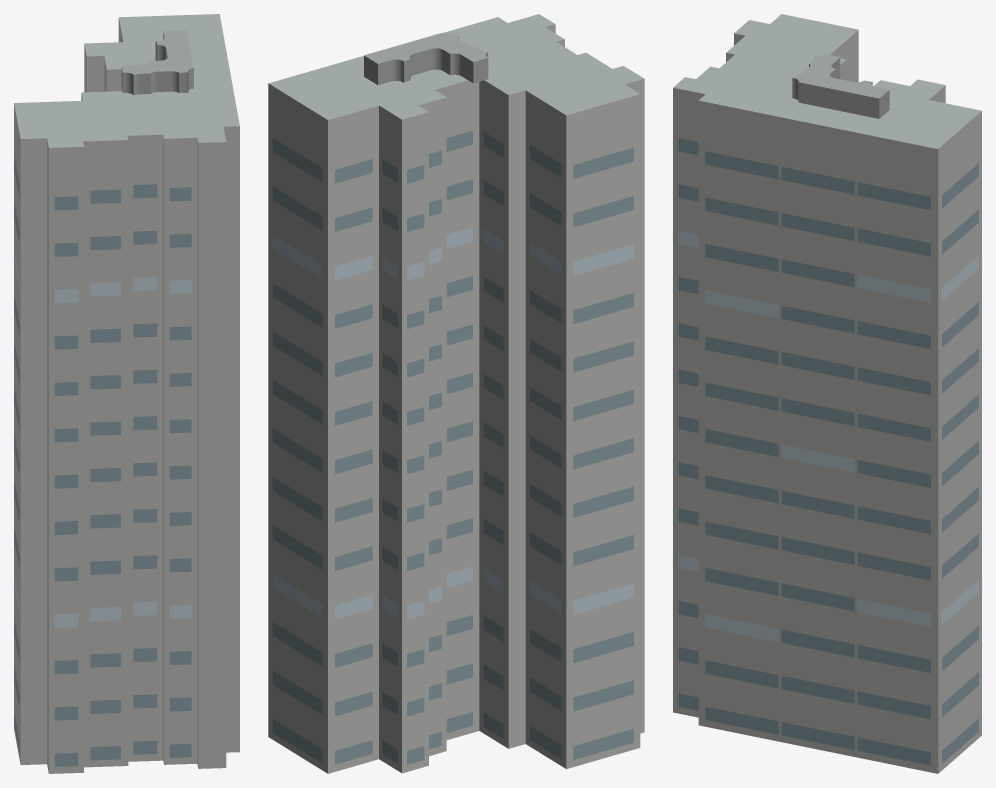
Rendered from fallback-banpo-xi-133.glb.
The picture shows the model from 3 angles, left to right: view 1: azimuth 30°, elevation 25°; view 2: azimuth 150°, elevation 25°; view 3: azimuth 270°, elevation 25°; orthographic projection. The views are drawn at different scales.
Parts seen in each view (by area): view 1: fallback-banpo-xi-133; view 2: fallback-banpo-xi-133; view 3: fallback-banpo-xi-133.
Boxes of the visible parts, x1,y1,x2,y2 form: fallback-banpo-xi-133: [14, 14, 239, 773]; fallback-banpo-xi-133: [268, 14, 644, 773]; fallback-banpo-xi-133: [673, 14, 981, 773].
Bounding box in the file's own units: 34.16 × 76 × 32.98.
